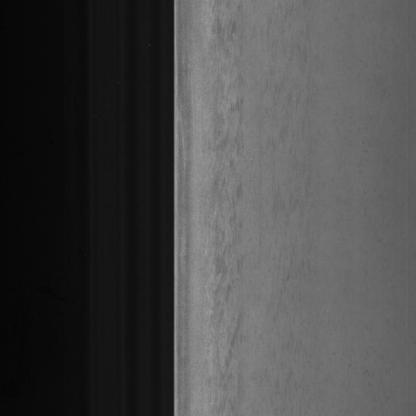silk_spot: (206, 27, 248, 366)
